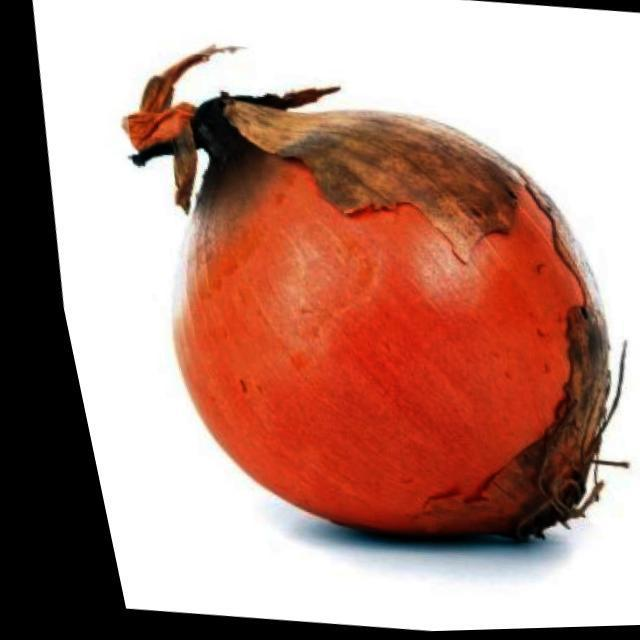Onion: (64, 38, 640, 621)
